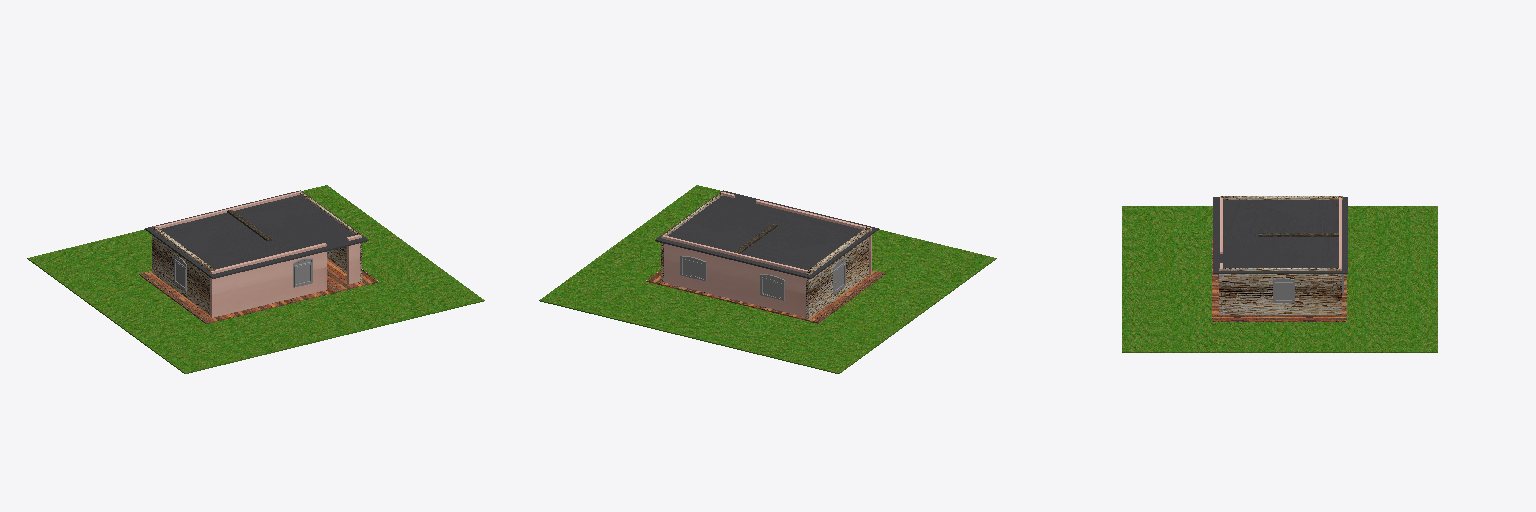
3 views of the same model, side by side, from view 1: azimuth 30°, elevation 25°; view 2: azimuth 150°, elevation 25°; view 3: azimuth 270°, elevation 25° (orthographic).
Visible parts, largest first — view 1: Box003, Box002, Wall001, Wall002, Box001, Wall004, Wall005, Line002; view 2: Box003, Box002, Wall003, Wall002, Box001, Wall001, Line005, Line004; view 3: Box003, Box002, Wall004, Box001, Line006.
Part boxes in pixels (x1,y1,x2,y2): Box003: (27, 185, 484, 373); Box002: (145, 190, 368, 278); Wall001: (210, 243, 326, 317); Wall002: (152, 226, 214, 314); Box001: (139, 258, 378, 323); Wall004: (300, 191, 361, 281); Wall005: (347, 235, 360, 283); Line002: (293, 258, 312, 287); Box003: (539, 185, 996, 373); Box002: (655, 190, 878, 278); Wall003: (663, 235, 807, 316); Wall002: (806, 227, 869, 318); Box001: (646, 270, 885, 323); Wall001: (756, 200, 871, 274); Line005: (680, 256, 706, 280); Line004: (760, 274, 784, 300); Box003: (1122, 206, 1437, 352); Box002: (1213, 197, 1347, 273); Wall004: (1219, 268, 1341, 314); Box001: (1212, 237, 1346, 321); Line006: (1273, 278, 1294, 302).
Size of the model in its own units: 141 by 21.74 by 128.
7 materials, 7 textured.